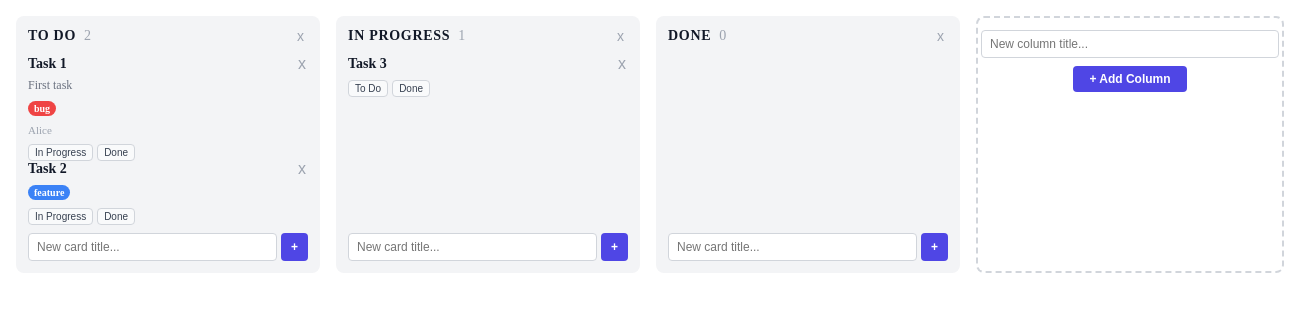
Test: KanbanBoard › adds a card when typing and clicking add button
The image size is (1301, 331).
Type "Brand New Card" into the field named "New card title for To Do" at (152, 247), box 28,233 -> 277,261
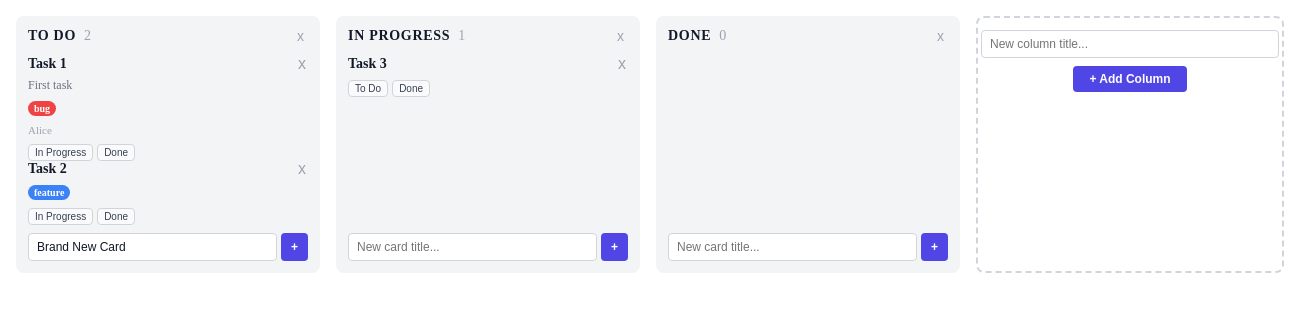
Click the button named "Add card to To Do" at (294, 247), box 281,233 -> 308,261
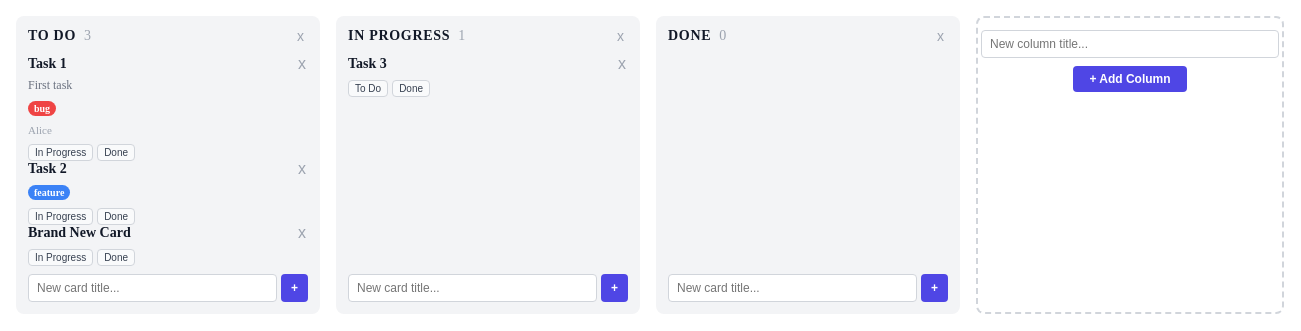
Now the heading "Brand New Card" is shown, box 28,225 -> 131,241
